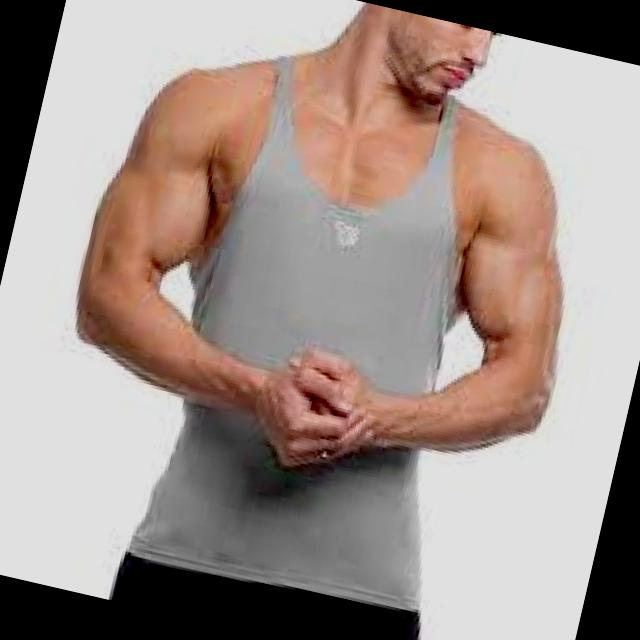no_vest: (124, 42, 533, 619)
